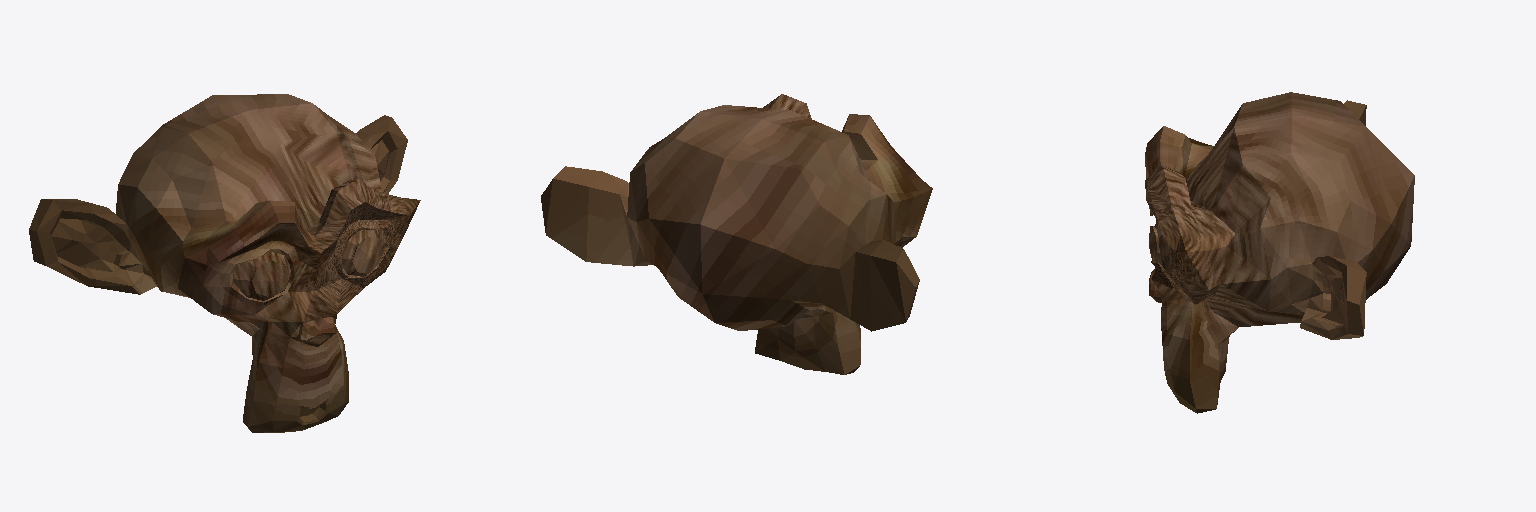
3 renders of one model, left to right at view 1: azimuth 30°, elevation 25°; view 2: azimuth 150°, elevation 25°; view 3: azimuth 270°, elevation 25°, orthographic.
Parts seen in each view (by area): view 1: suzanne; view 2: suzanne; view 3: suzanne.
Boxes of the visible parts, box(x1,y1,x2,y2) form: suzanne: box(29, 94, 420, 432); suzanne: box(541, 94, 932, 374); suzanne: box(1145, 92, 1414, 413).
Bounding box in the file's own units: 2.73 × 1.97 × 1.7.
Materials: 1 (1 with a texture image).